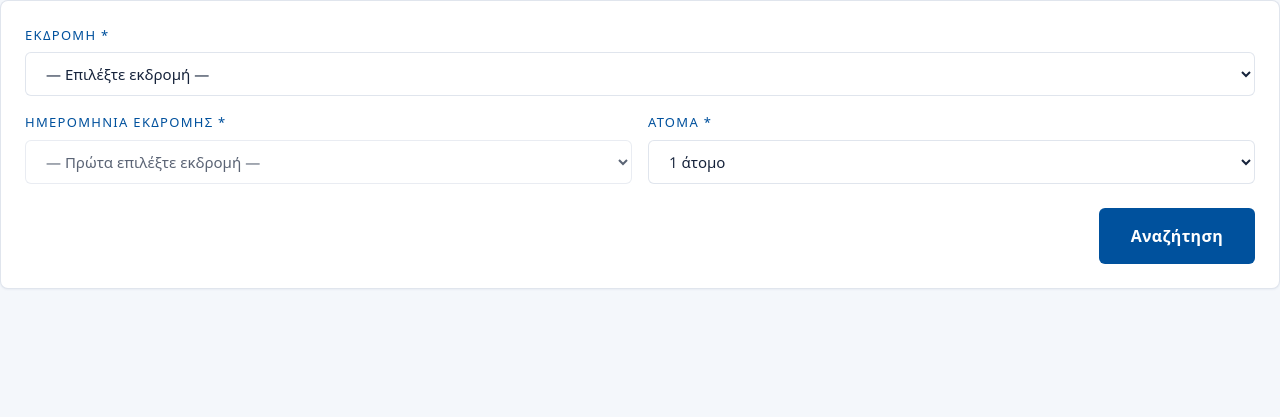
ExcursionSearchForm › μετά την επιλογή εκδρομής ξεκλειδώνουν οι ημερομηνίες της
The image size is (1280, 417).
Select "Λιχαδονήσια" in the dropdown labelled "Εκδρομή *" at (640, 74), box left=25, top=52, right=1255, bottom=96
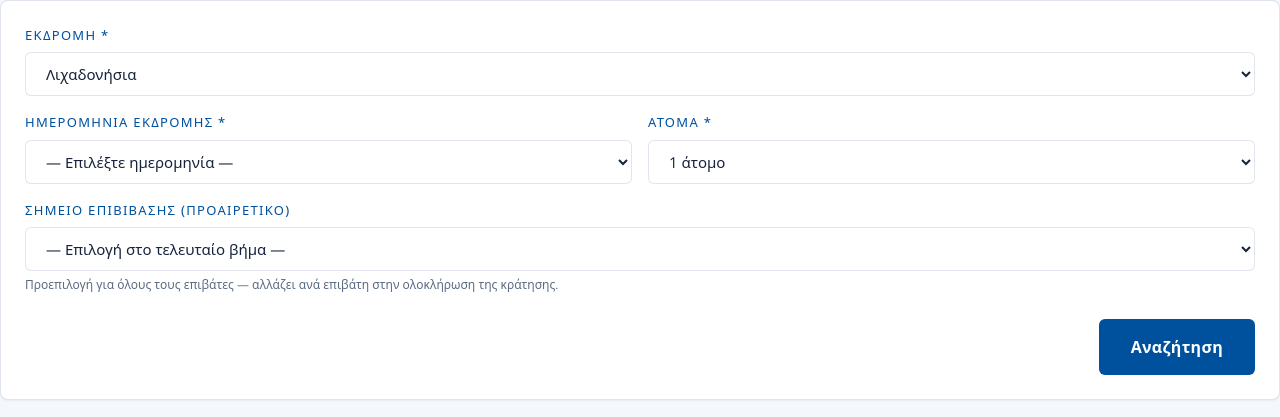
Check: the dropdown labelled "Ημερομηνία εκδρομής *" is enabled, box left=25, top=140, right=632, bottom=184
